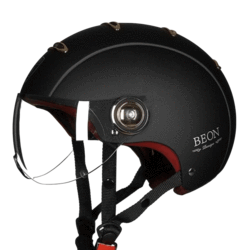with_helmet: (10, 18, 250, 196)
